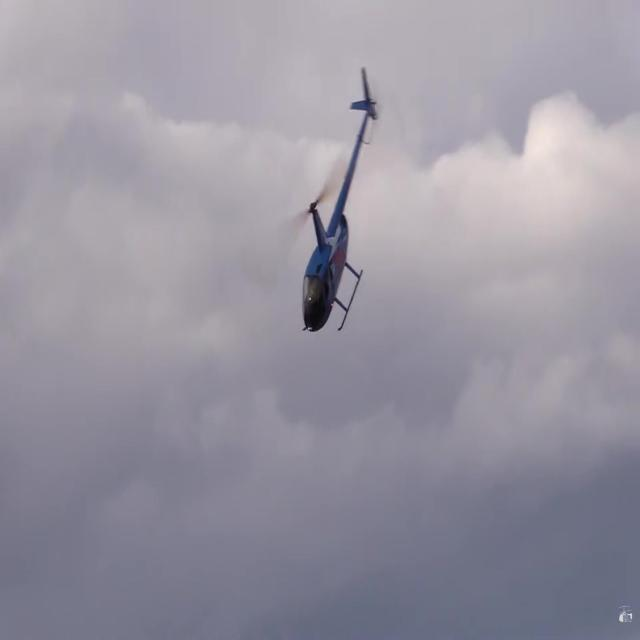CIV_HELO: (302, 66, 379, 334)
